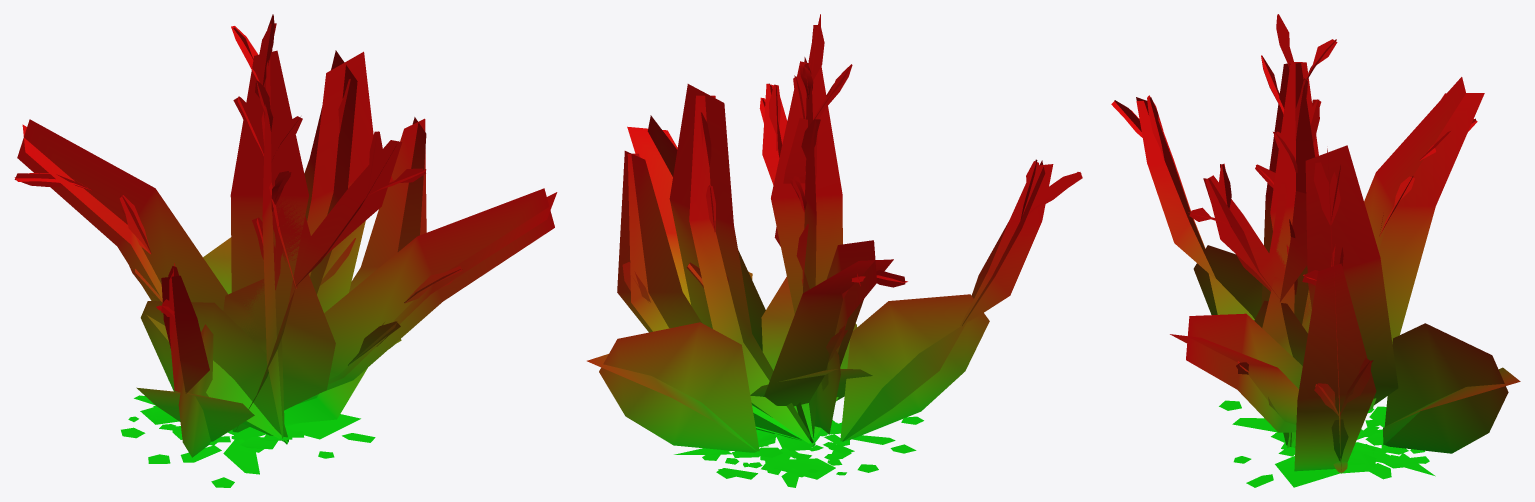
File: River Saltbush_LOD2_Var10_vdfpcgbia.fbx
3 views of the same model, side by side, from view 1: azimuth 30°, elevation 25°; view 2: azimuth 150°, elevation 25°; view 3: azimuth 270°, elevation 25° (orthographic). The views are drawn at different scales.
Visible parts, largest first — view 1: _bvwz_Var10_LOD2; view 2: _bvwz_Var10_LOD2; view 3: _bvwz_Var10_LOD2.
Part boxes in pixels (box(x1,y1,x2,y2)): _bvwz_Var10_LOD2: box(14, 14, 557, 487); _bvwz_Var10_LOD2: box(587, 14, 1082, 487); _bvwz_Var10_LOD2: box(1111, 14, 1520, 487).
Bounding box in the file's own units: 21.12 × 20.07 × 17.24.
